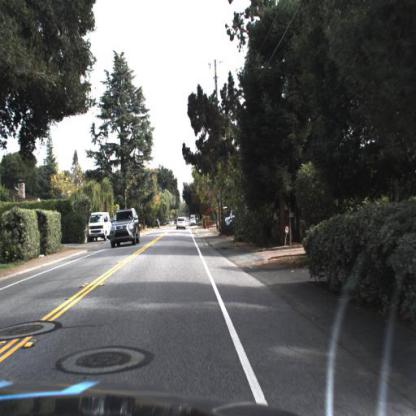car: (108, 206, 142, 250), (88, 213, 112, 242), (175, 214, 189, 233)
